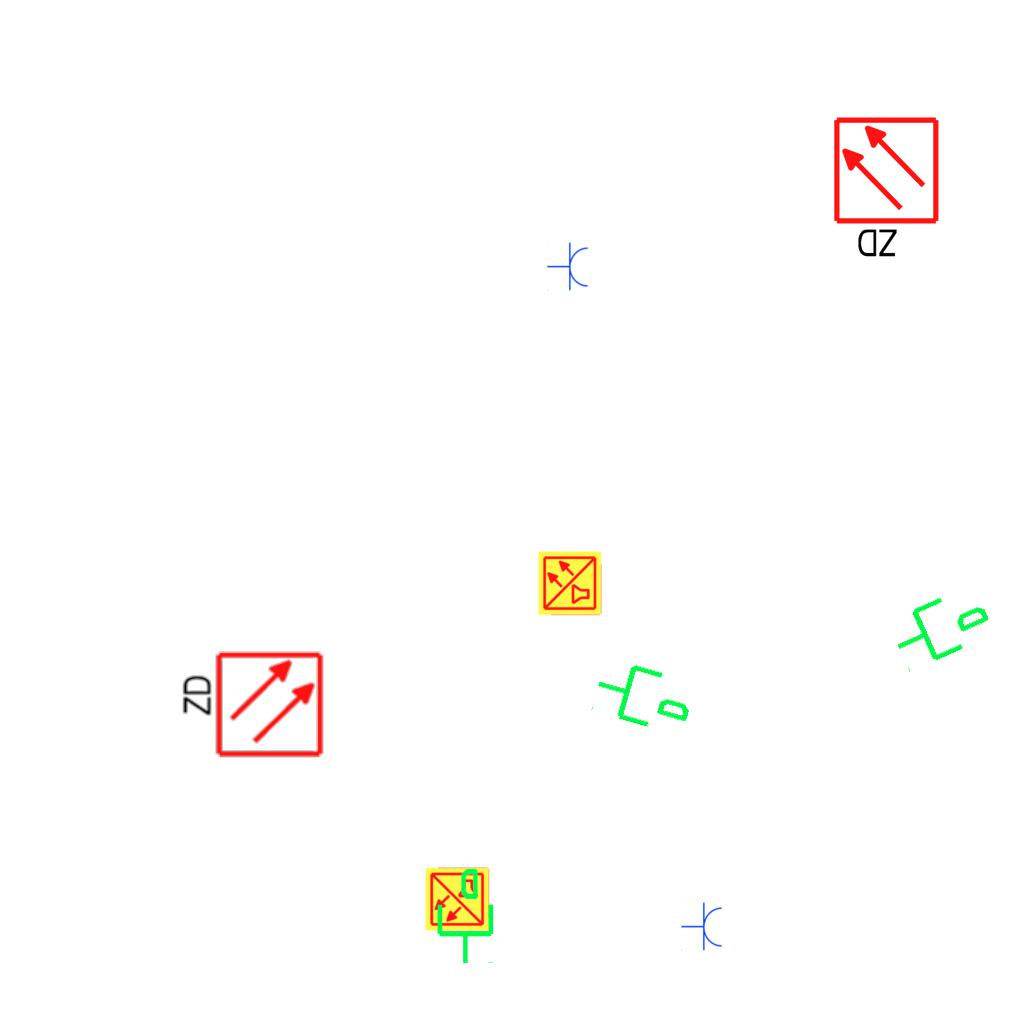Datenanschluss_einfach: (880, 574, 1001, 678), (586, 648, 703, 742), (429, 866, 498, 966)
OKW_Multisensormelder_(Kombination_optischer_Rauch-Kahlenmonoxid_Waerme-Melder): (424, 866, 490, 932), (537, 550, 603, 616)
Schukosteckdose_einfach: (547, 242, 590, 292), (681, 902, 724, 952)
ZD_Melder_in_Zwischendecke_mit_Revisionsoeffnung_mind_40_x_40_cm: (831, 115, 945, 264), (176, 649, 325, 763)
